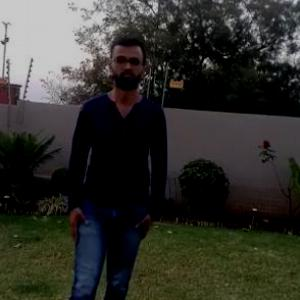follow: (73, 46, 157, 299)
